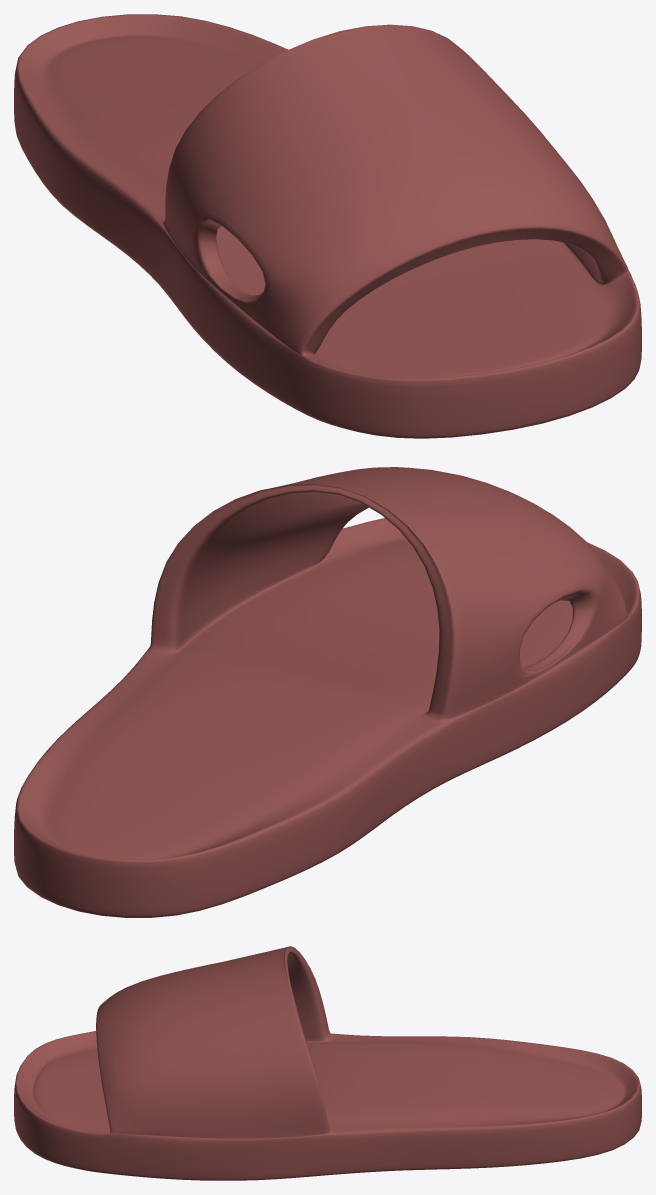
The picture shows the model from 3 angles, top to bottom: view 1: azimuth 30°, elevation 25°; view 2: azimuth 150°, elevation 25°; view 3: azimuth 270°, elevation 25°; orthographic projection. The views are drawn at different scales.
Visible parts, largest first — view 1: low04; view 2: low04; view 3: low04.
Boxes of the visible parts, x1,y1,x2,y2 form: low04: [14, 14, 641, 438]; low04: [14, 467, 641, 917]; low04: [14, 946, 641, 1180].
Bounding box in the file's own units: 0.239 × 0.1584 × 0.541.
Materials: 1 (1 with a texture image).
